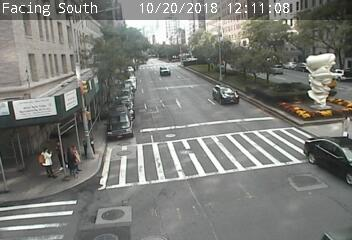car: (304, 136, 352, 184), (212, 84, 239, 105), (159, 66, 171, 75)
